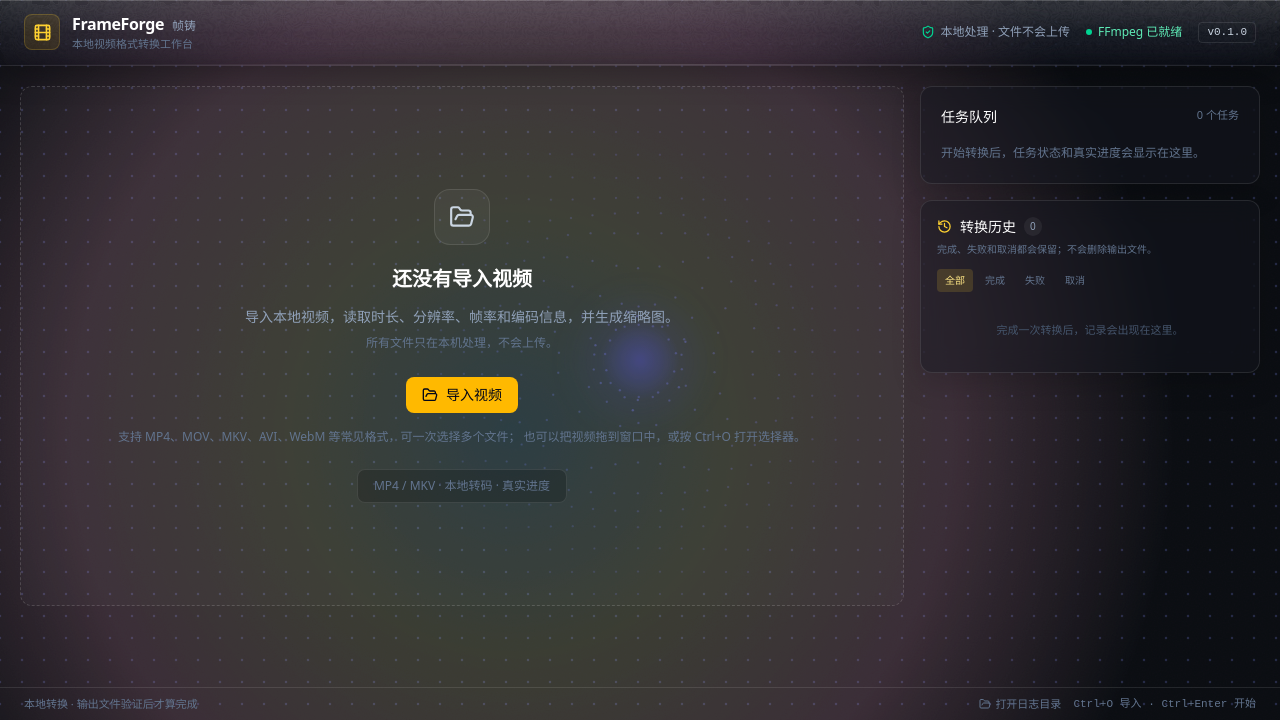
it: 阶段 8 / App 接线 › 首次导入后默认输出到源文件目录，手动选择后不被覆盖
This screenshot has width=1280, height=720.
expect the text "FFmpeg 已就绪" is shown: met, box [1086,24,1182,40]
Click the button "导入视频". click: (462, 394)
box: [406,376,518,412]
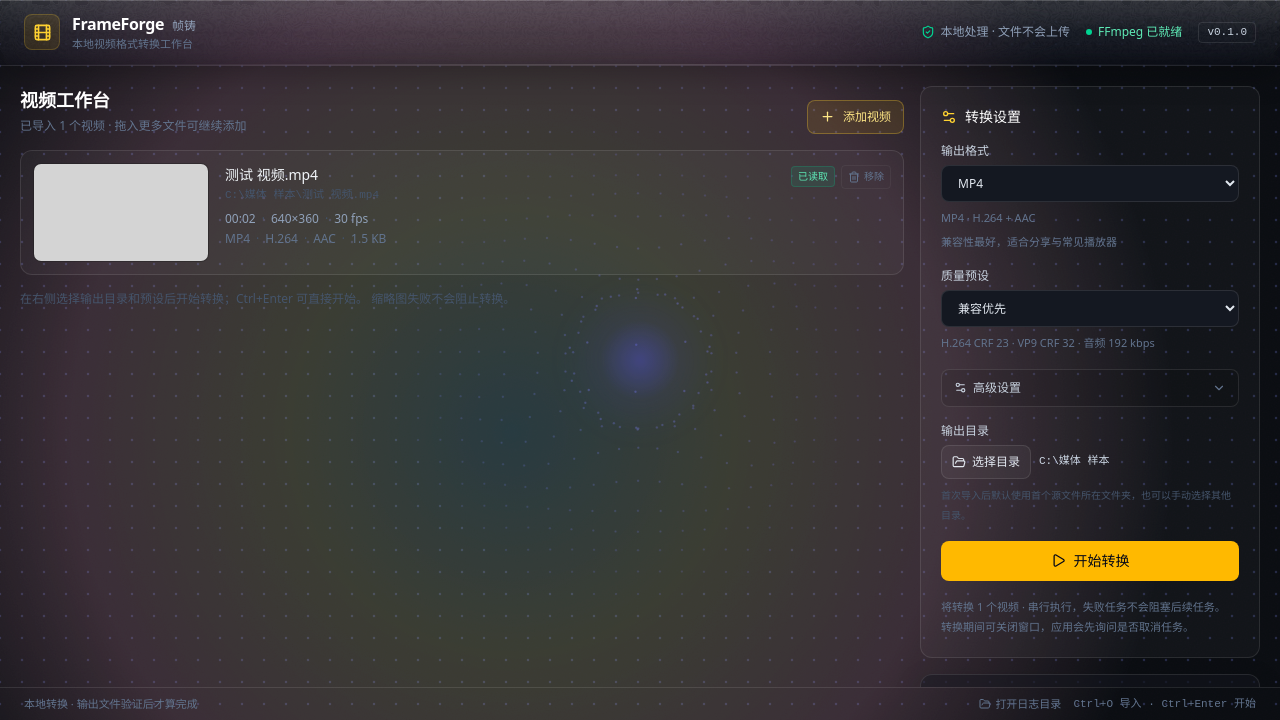
expect the text "C:\\媒体 样本" is shown: met, box [1039,455,1109,467]
expect the button "开始转换" is enabled: met, box [941,540,1239,580]
Click the button "选择目录". click: (986, 462)
box: [941,444,1031,478]
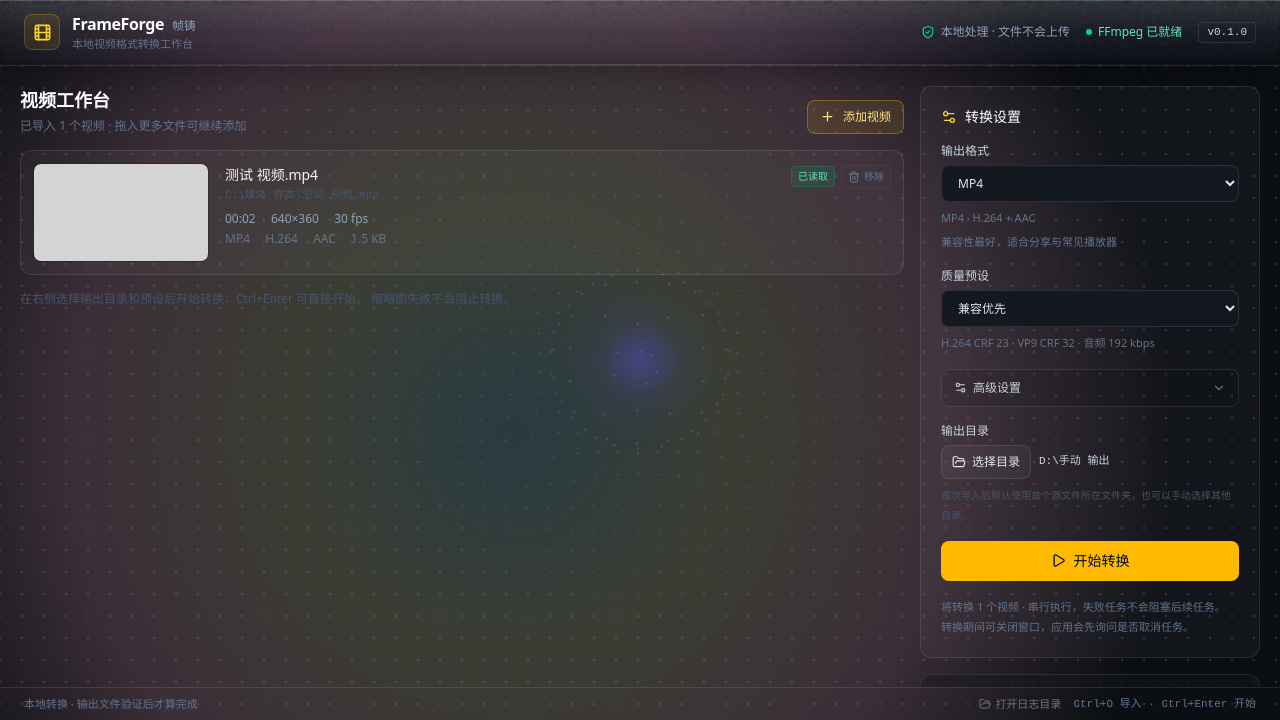
expect the text "D:\\手动 输出" is shown: met, box [1039,455,1109,467]
